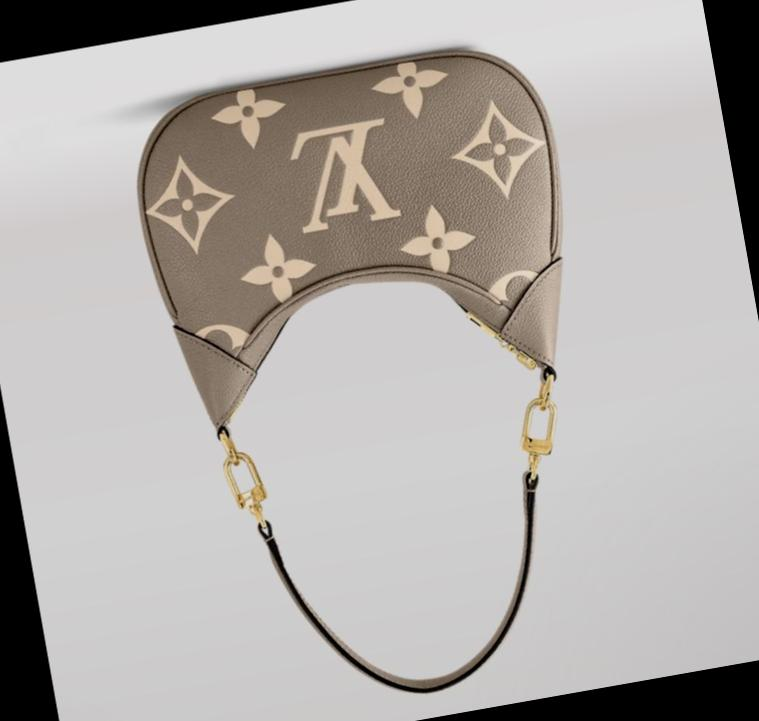LOUIS-VUITTON: (130, 35, 564, 386)
